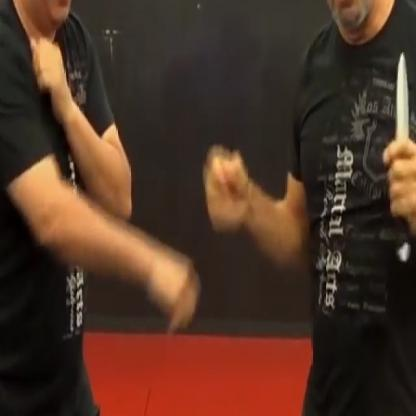knife: (384, 38, 416, 269)
